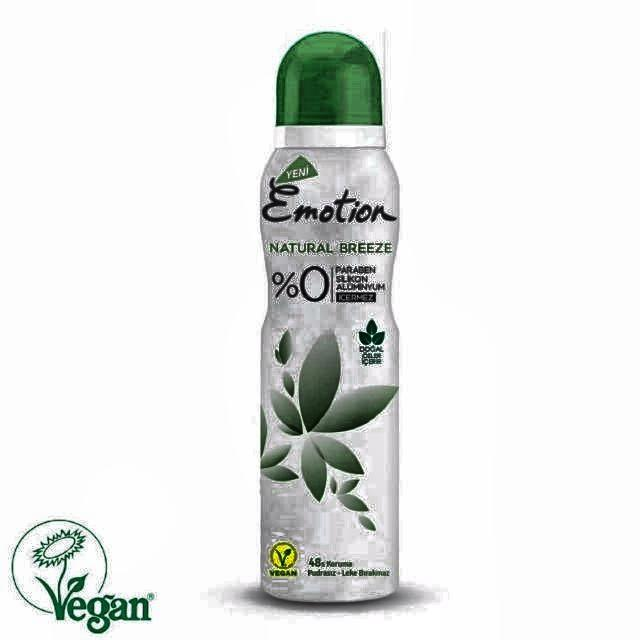metal: (254, 30, 403, 608)
